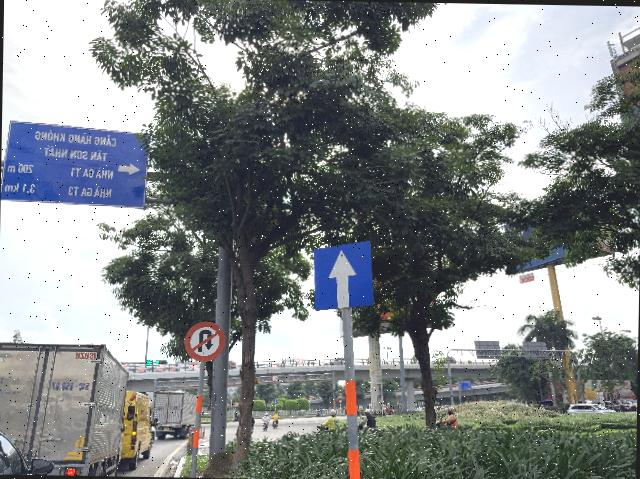cam-quay-dau-xe: (184, 321, 226, 363)
duong-mot-chieu: (312, 238, 376, 311)
